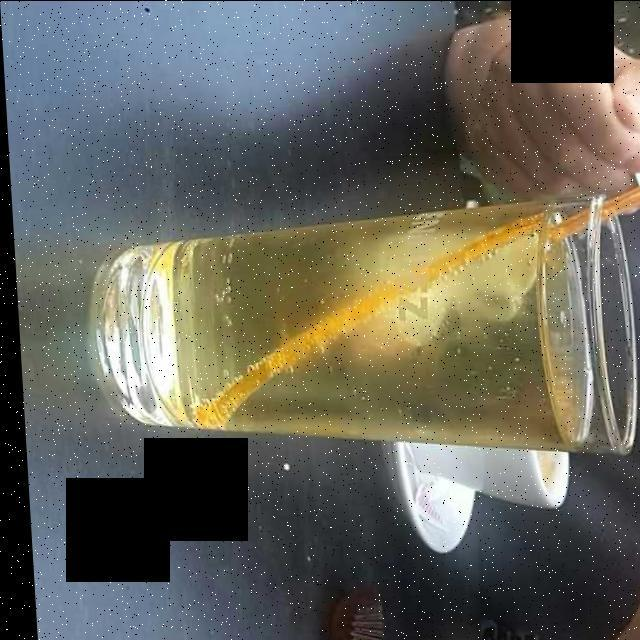drink: (105, 214, 582, 455)
